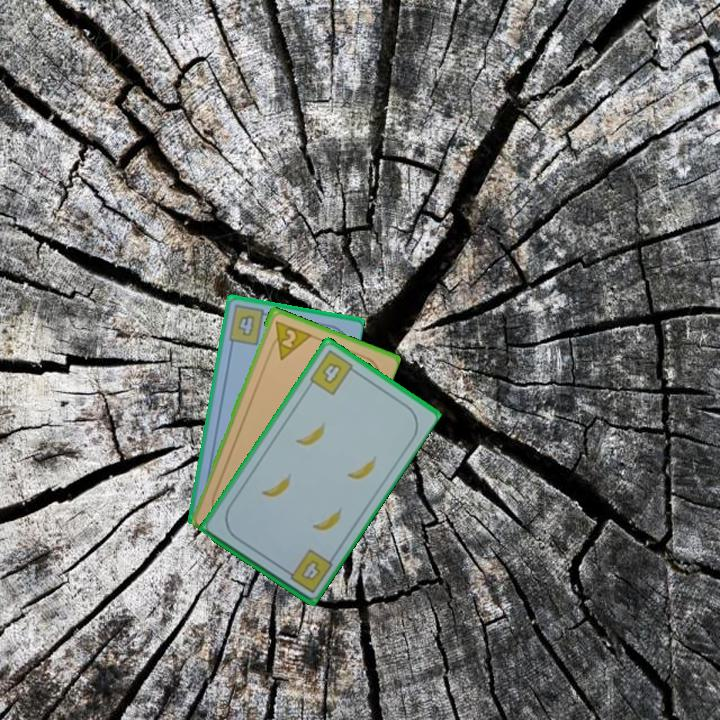2p: (266, 316, 313, 362)
4b: (306, 346, 360, 398), (280, 545, 335, 596), (225, 302, 273, 348)
